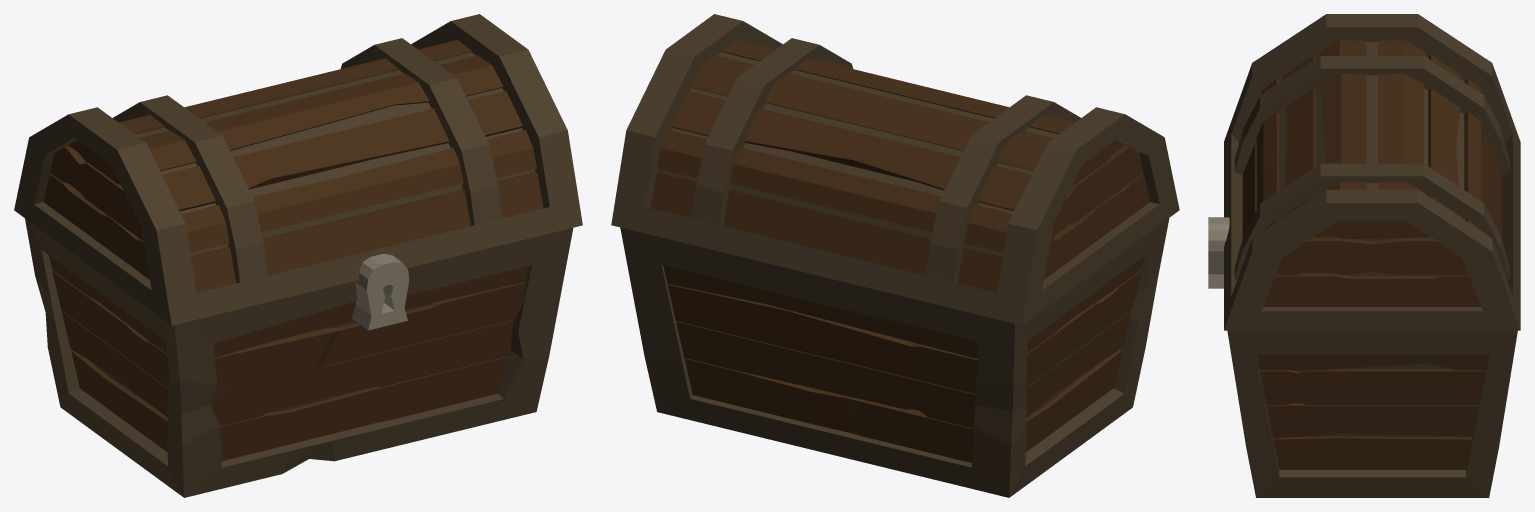
Rendered from Chest.fbx.
3 views of the same model, side by side, from view 1: azimuth 30°, elevation 25°; view 2: azimuth 150°, elevation 25°; view 3: azimuth 270°, elevation 25° (orthographic). The views are drawn at different scales.
Visible parts, largest first — view 1: Chest_Top_n3d, Chest_Base_n3d; view 2: Chest_Top_n3d, Chest_Base_n3d; view 3: Chest_Top_n3d, Chest_Base_n3d.
Part boxes in pixels (x1,y1,x2,y2): Chest_Top_n3d: [14, 14, 582, 325]; Chest_Base_n3d: [25, 218, 573, 497]; Chest_Top_n3d: [611, 14, 1179, 325]; Chest_Base_n3d: [620, 218, 1169, 497]; Chest_Top_n3d: [1224, 14, 1520, 330]; Chest_Base_n3d: [1208, 217, 1517, 497].
Bounding box in the file's own units: 118 × 89.85 × 82.38.
